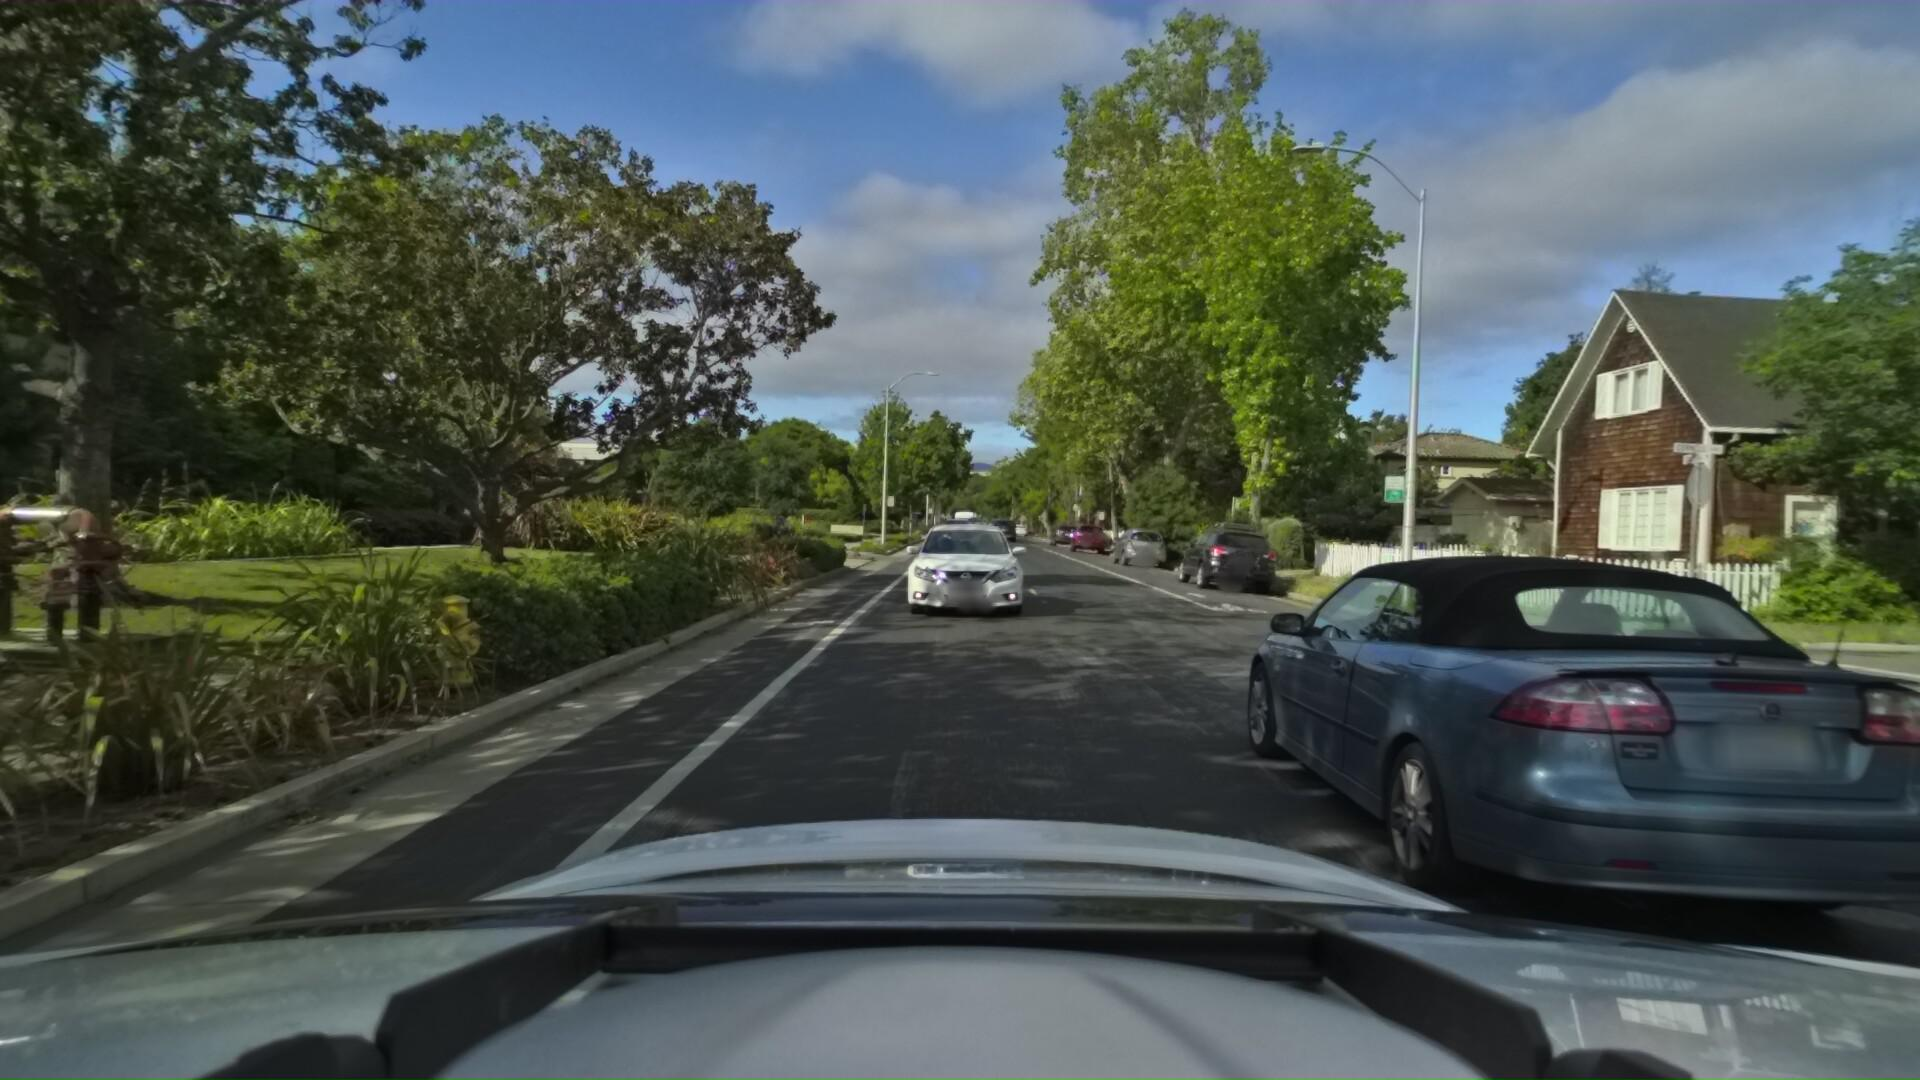car: (1218, 518, 1920, 1015), (894, 513, 1026, 618), (1164, 518, 1278, 595), (1102, 524, 1166, 567), (936, 512, 972, 545), (1065, 520, 1100, 553), (1044, 521, 1075, 547), (985, 516, 1013, 542)
